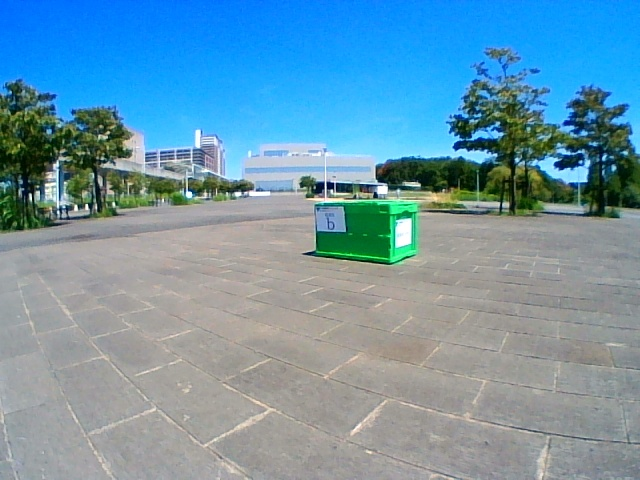green_box: (315, 201, 416, 265)
tag_b: (316, 208, 344, 231)
